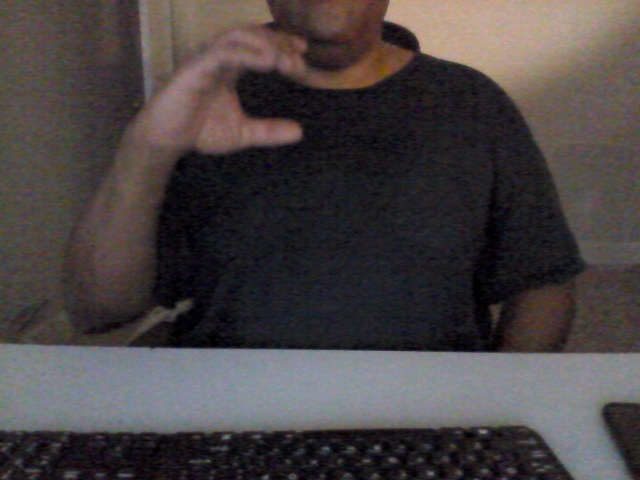drink: (115, 18, 336, 162)
